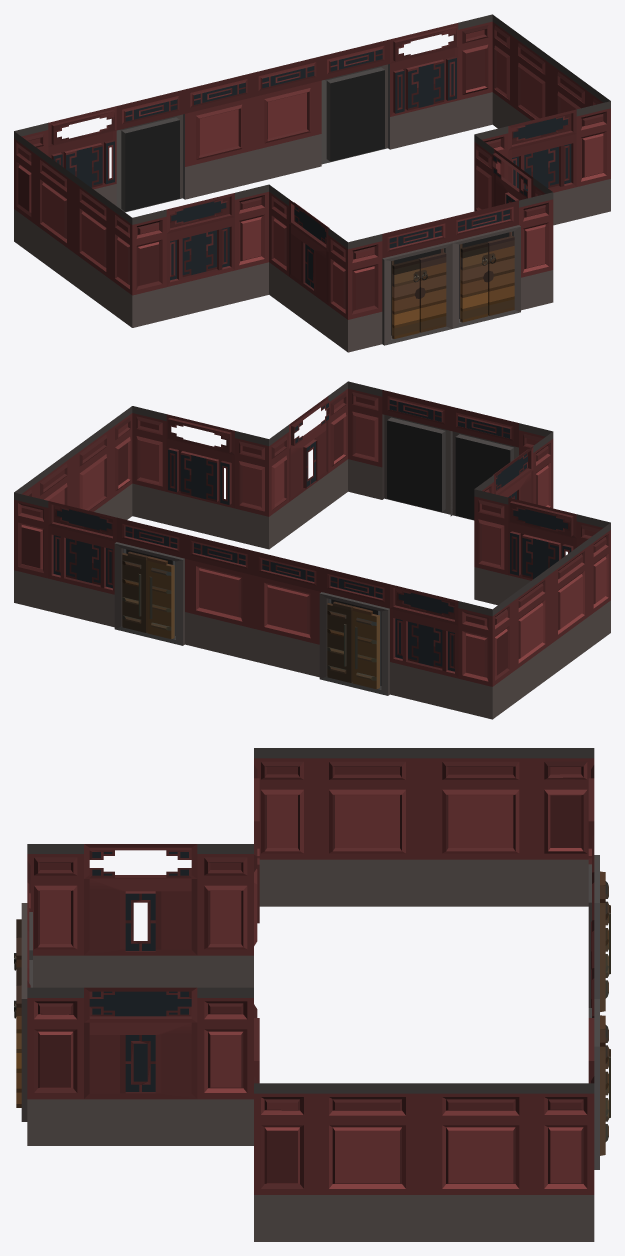
Rendered from BuildingA-T_A.fbx.
3 views of the same model, one above another, from view 1: azimuth 30°, elevation 25°; view 2: azimuth 150°, elevation 25°; view 3: azimuth 270°, elevation 25° (orthographic). The views are drawn at different scales.
Parts seen in each view (by area): view 1: BuildingA-T_A; view 2: BuildingA-T_A; view 3: BuildingA-T_A.
Part boxes in pixels (<box>): BuildingA-T_A: <box>14,14,610,352</box>; BuildingA-T_A: <box>14,381,610,719</box>; BuildingA-T_A: <box>14,748,610,1241</box>.
Bounding box in the file's own units: 1750 × 386 × 1316.
